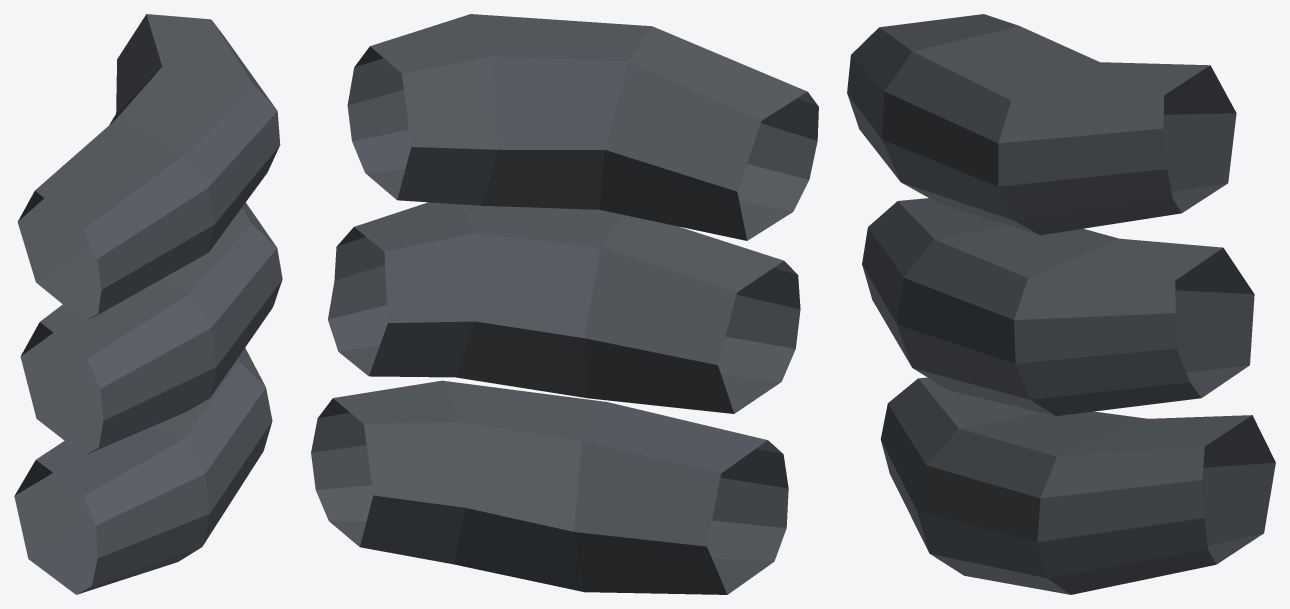
The model's file is Personal_Vehicle_01_Connecting_Pipes_Yellow.fbx.
3 renders of one model, left to right at view 1: azimuth 30°, elevation 25°; view 2: azimuth 150°, elevation 25°; view 3: azimuth 270°, elevation 25°, orthographic. The views are drawn at different scales.
Visible parts, largest first — view 1: Personal_Vehicle_01_Connecting_Pipes_Yellow; view 2: Personal_Vehicle_01_Connecting_Pipes_Yellow; view 3: Personal_Vehicle_01_Connecting_Pipes_Yellow.
Part boxes in pixels (x1,y1,x2,y2): Personal_Vehicle_01_Connecting_Pipes_Yellow: (14, 14, 282, 594); Personal_Vehicle_01_Connecting_Pipes_Yellow: (311, 14, 818, 594); Personal_Vehicle_01_Connecting_Pipes_Yellow: (847, 14, 1275, 594).
Size of the model in its own units: 27.22 by 41.91 by 29.51.
Materials: 1 (1 with a texture image).
